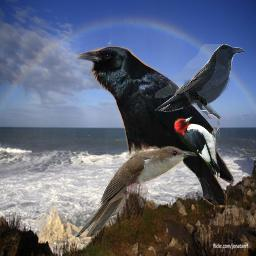Crow: (76, 46, 235, 207), (155, 44, 245, 119)
Cuckoo: (75, 146, 197, 237)
Woodpecker: (174, 116, 220, 178)
